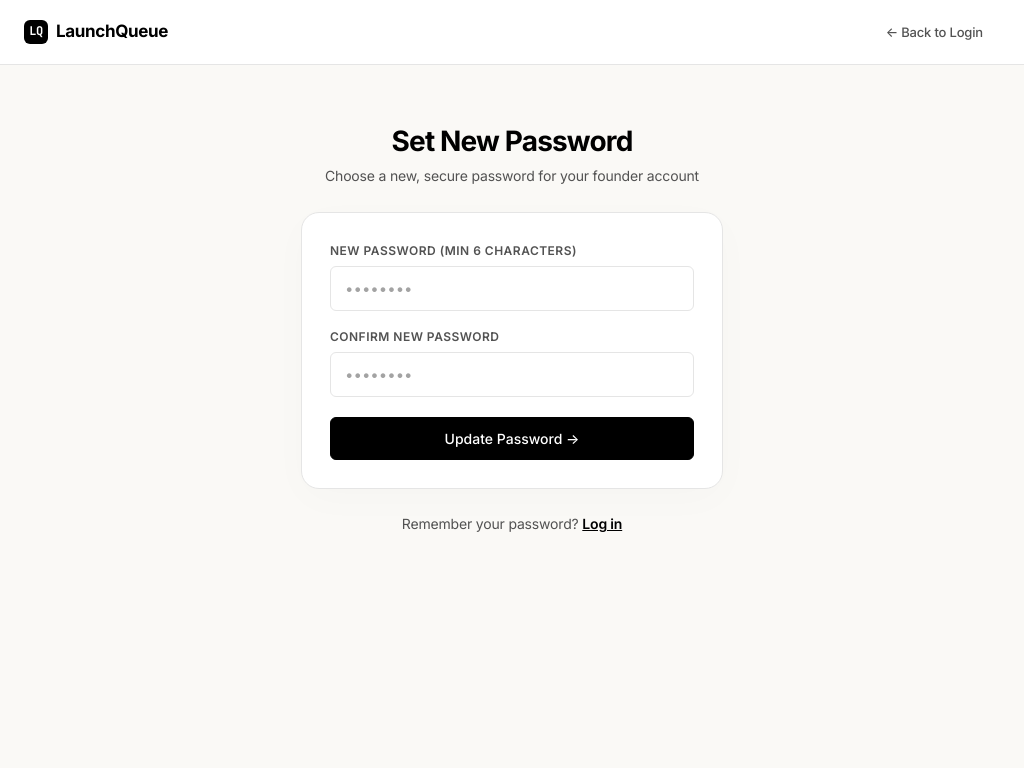
it: ResetPassword Page › shows validation error when passwords do not match
Type "firstpassword123" into the password field with placeholder "••••••••" below "New Password (min 6 characters)".
click(512, 288); type("firstpassword123")  # box [330,266,694,311]
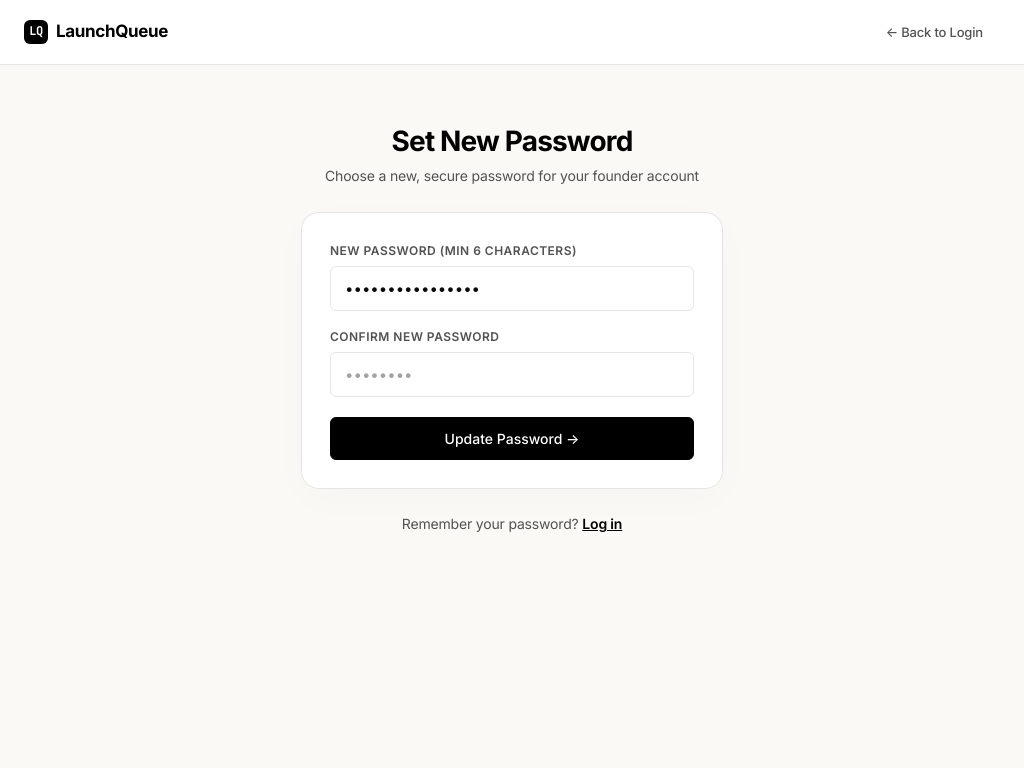
Type "differentpassword123" into the password field with placeholder "••••••••".
click(512, 374); type("differentpassword123")  # box [330,352,694,397]
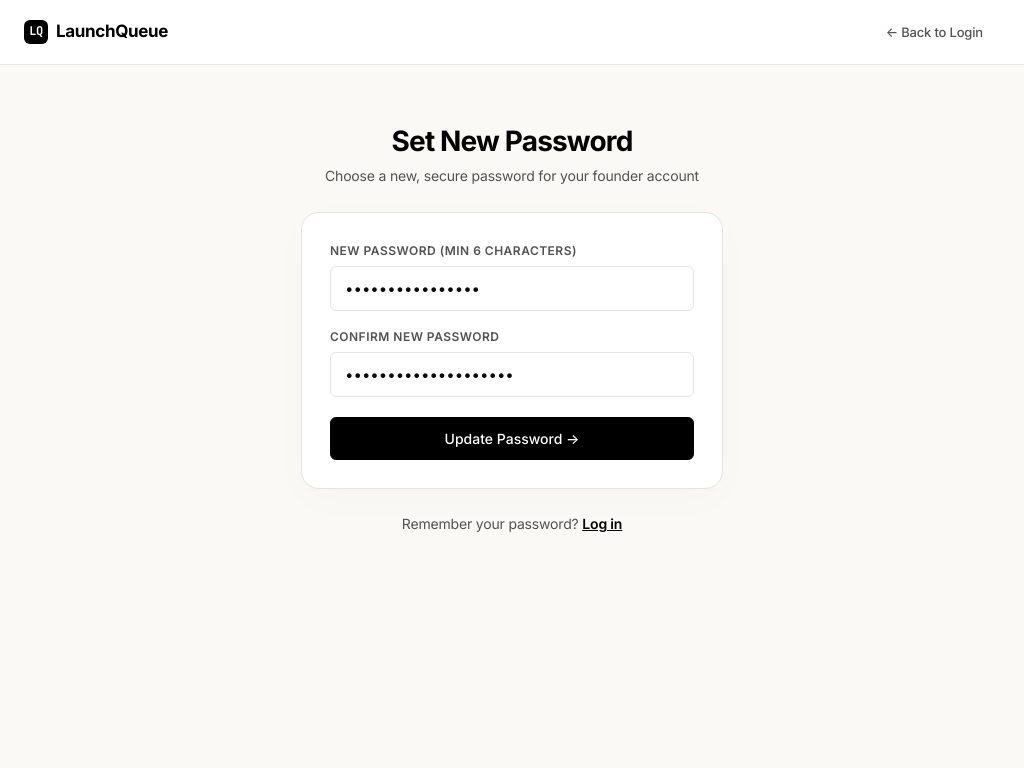
Click the button "Update Password →".
click(512, 438)  # box [330,417,694,460]
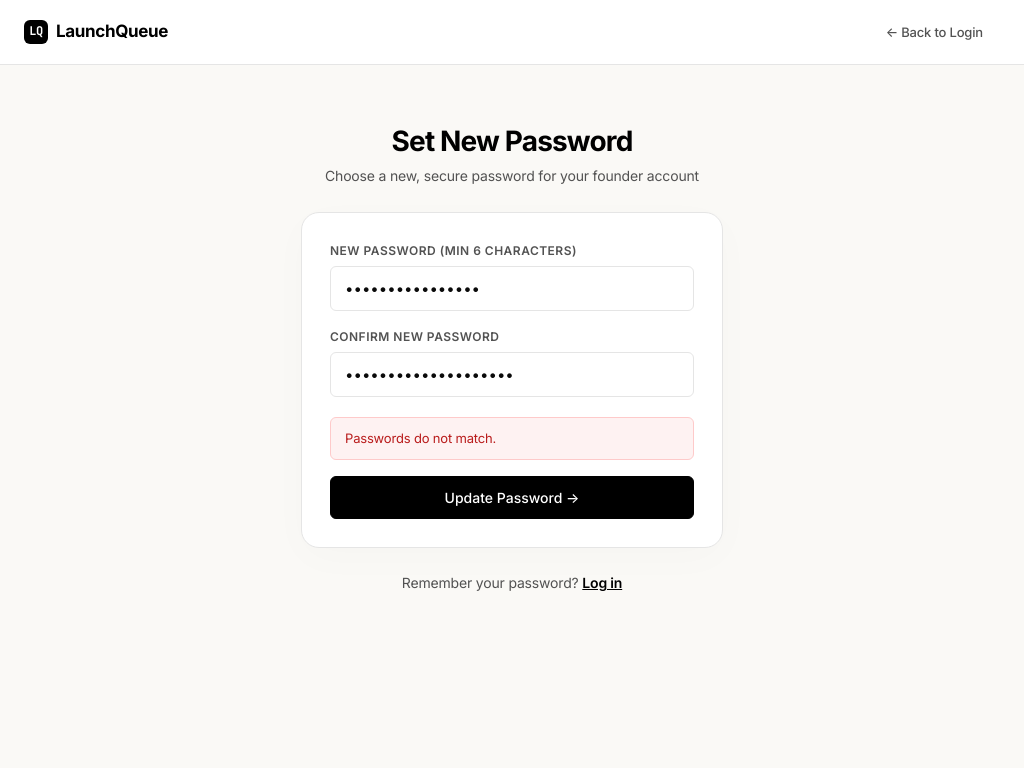
Expected: the text "Passwords do not match." is shown, [330,417,694,460]
